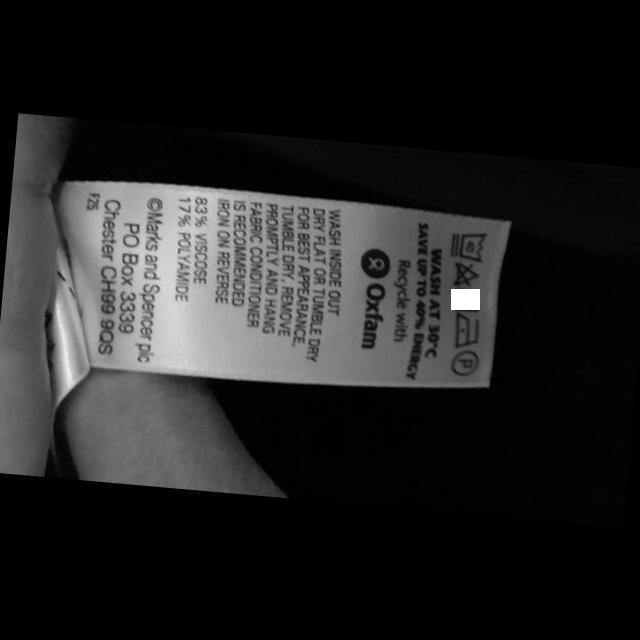40C: (446, 227, 490, 264)
DN_bleach: (450, 258, 480, 288)
iron_low: (450, 310, 481, 350)
normal_dry_clean_solvents: (447, 346, 481, 379)
